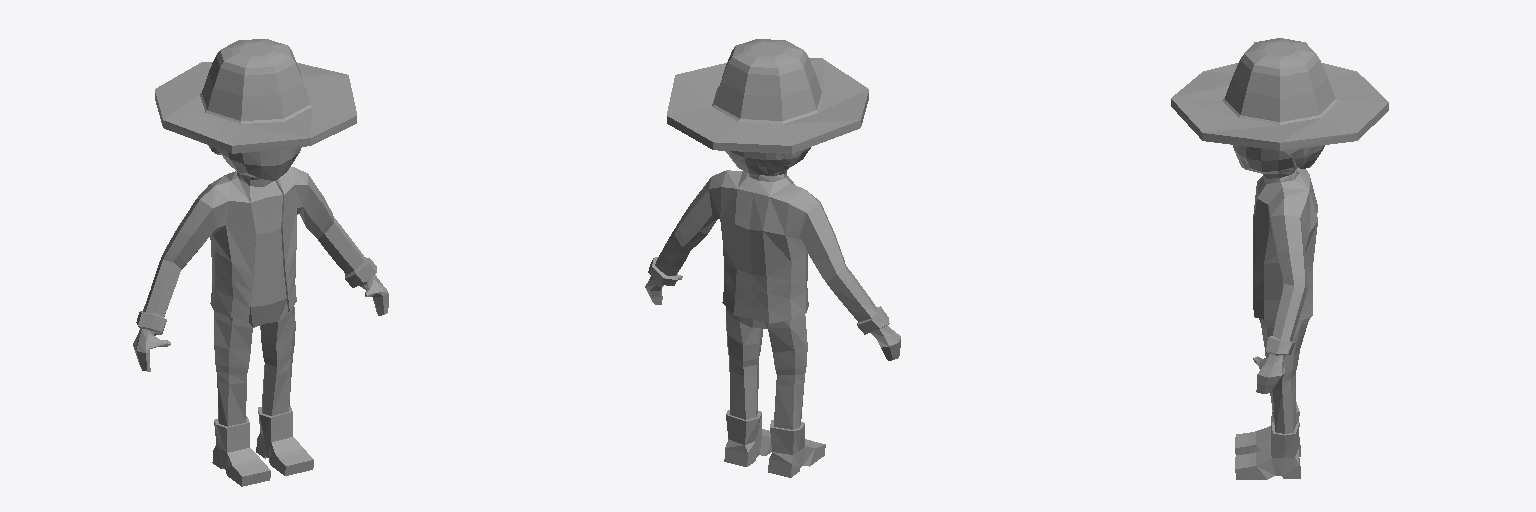
3 renders of one model, left to right at view 1: azimuth 30°, elevation 25°; view 2: azimuth 150°, elevation 25°; view 3: azimuth 270°, elevation 25°, orthographic.
Visible parts, largest first — view 1: Character_Cube; view 2: Character_Cube; view 3: Character_Cube.
Boxes of the visible parts, x1=… form: Character_Cube: x1=133, y1=39, x2=388, y2=486; Character_Cube: x1=645, y1=39, x2=900, y2=477; Character_Cube: x1=1171, y1=38, x2=1388, y2=479.
Size of the model in its own units: 1.17 by 1.84 by 0.8816.